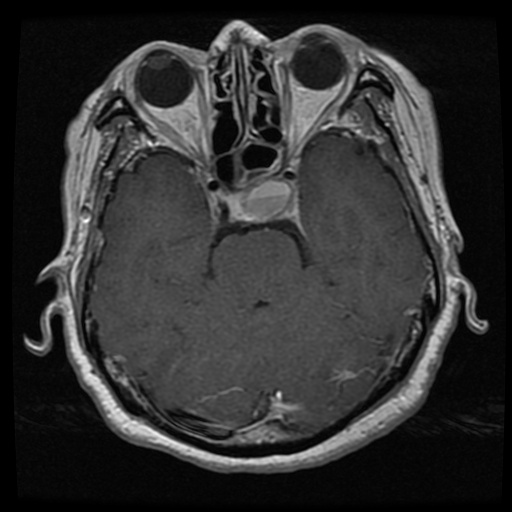pituitary: (229, 178, 300, 220)
